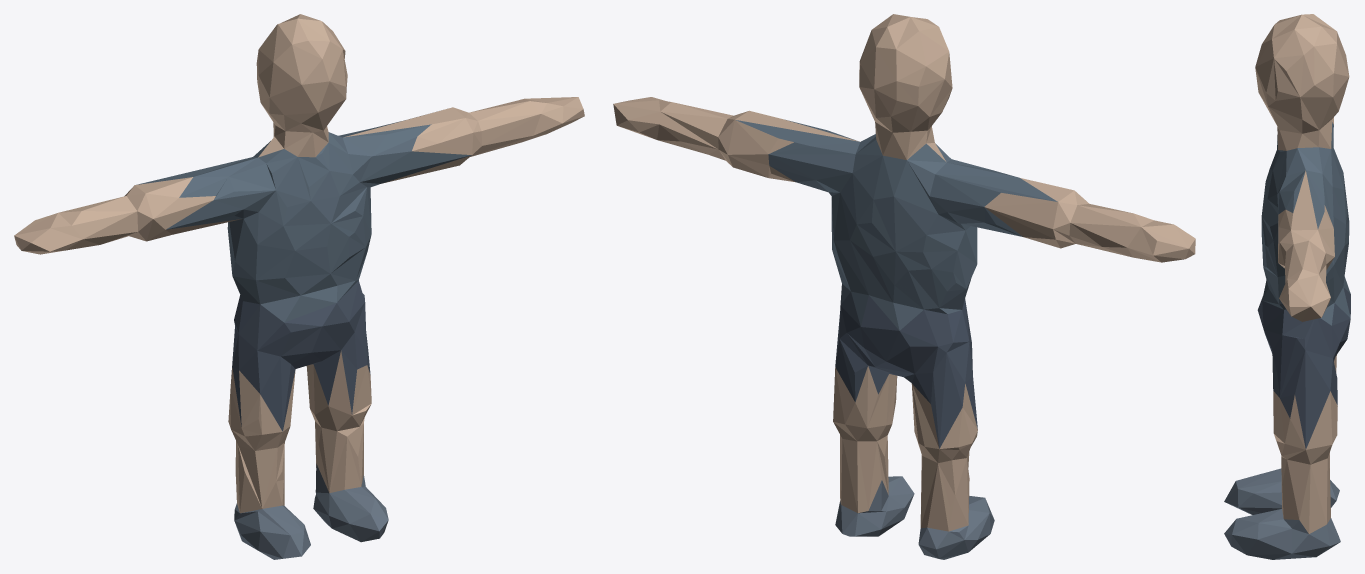
File: atlas-study.glb
3 renders of one model, left to right at view 1: azimuth 30°, elevation 25°; view 2: azimuth 150°, elevation 25°; view 3: azimuth 270°, elevation 25°, orthographic. The views are drawn at different scales.
Visible parts, largest first — view 1: world; view 2: world; view 3: world.
Boxes of the visible parts, left/top/right/bottom form: world: left=14, top=14, right=584, bottom=559; world: left=613, top=14, right=1195, bottom=559; world: left=1224, top=14, right=1350, bottom=559.
Bounding box in the file's own units: 2.54 × 2.24 × 0.4933.
